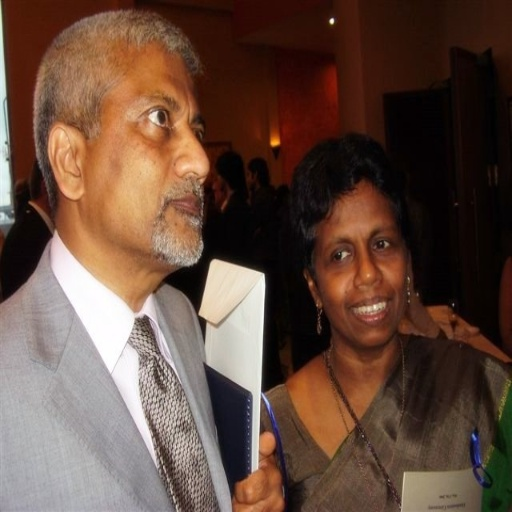hand: (240, 435, 285, 508)
